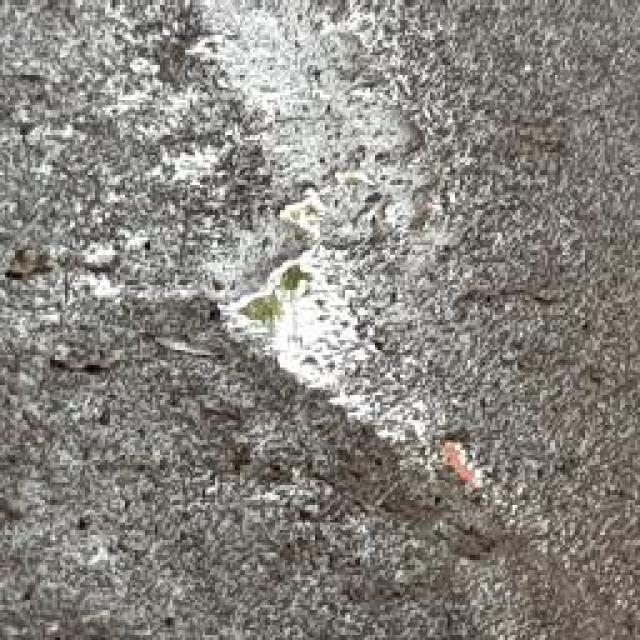stagnation: (198, 199, 386, 376)
